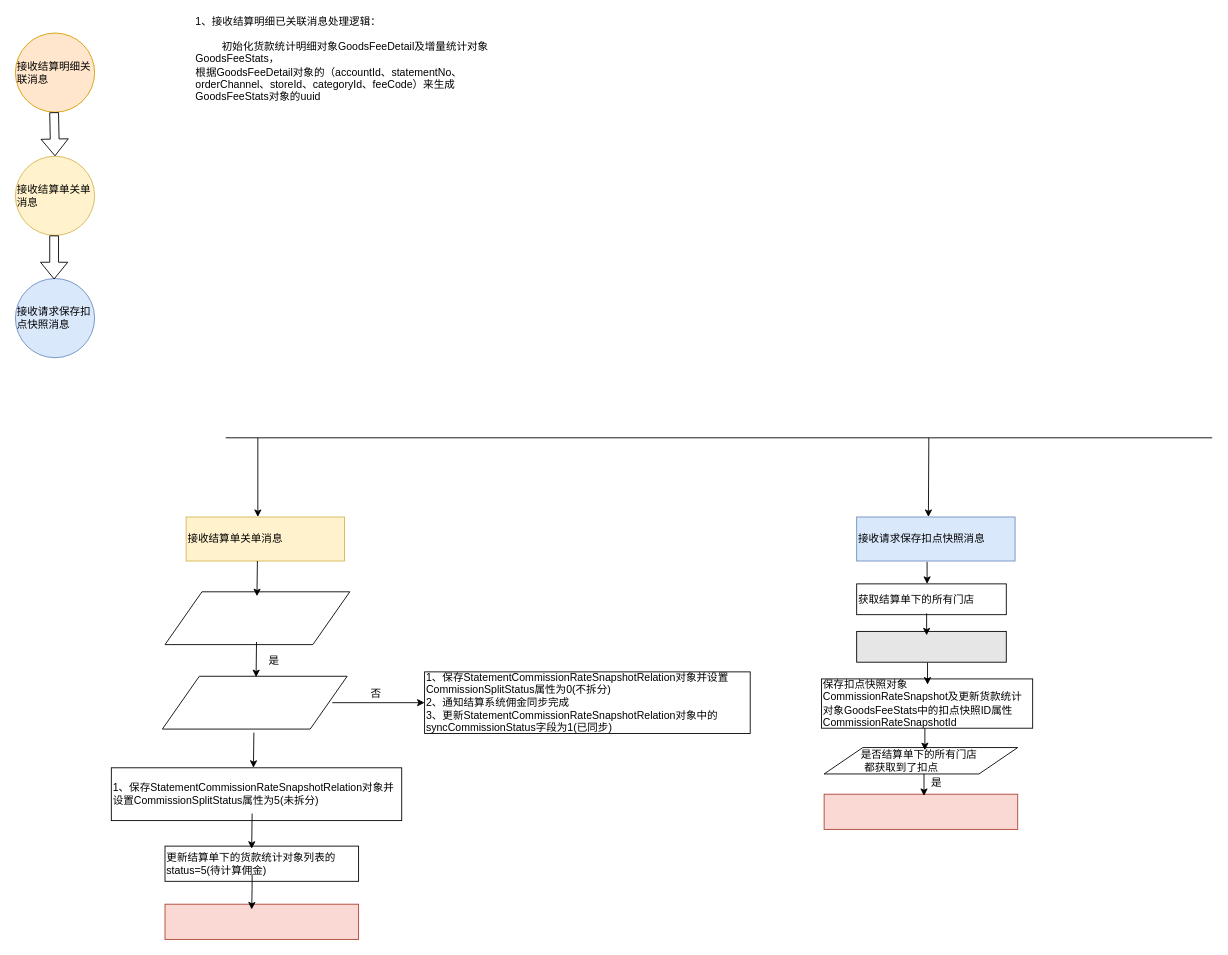
Image size: 1228x955. Some labels were removed from this diagram. Here are the shapes that lost their labels. From the top down, the box of each, then its label:
(164, 591, 350, 645): 验证明细金额和条数是否一致
(856, 631, 1006, 662): 根据门店调用商户的扣点接口，获取扣点对象
(161, 675, 347, 729): 验证是否有联营数据
(823, 793, 1018, 829): 发送统计维度消息
(164, 903, 359, 939): 发送保存扣点快照消息
